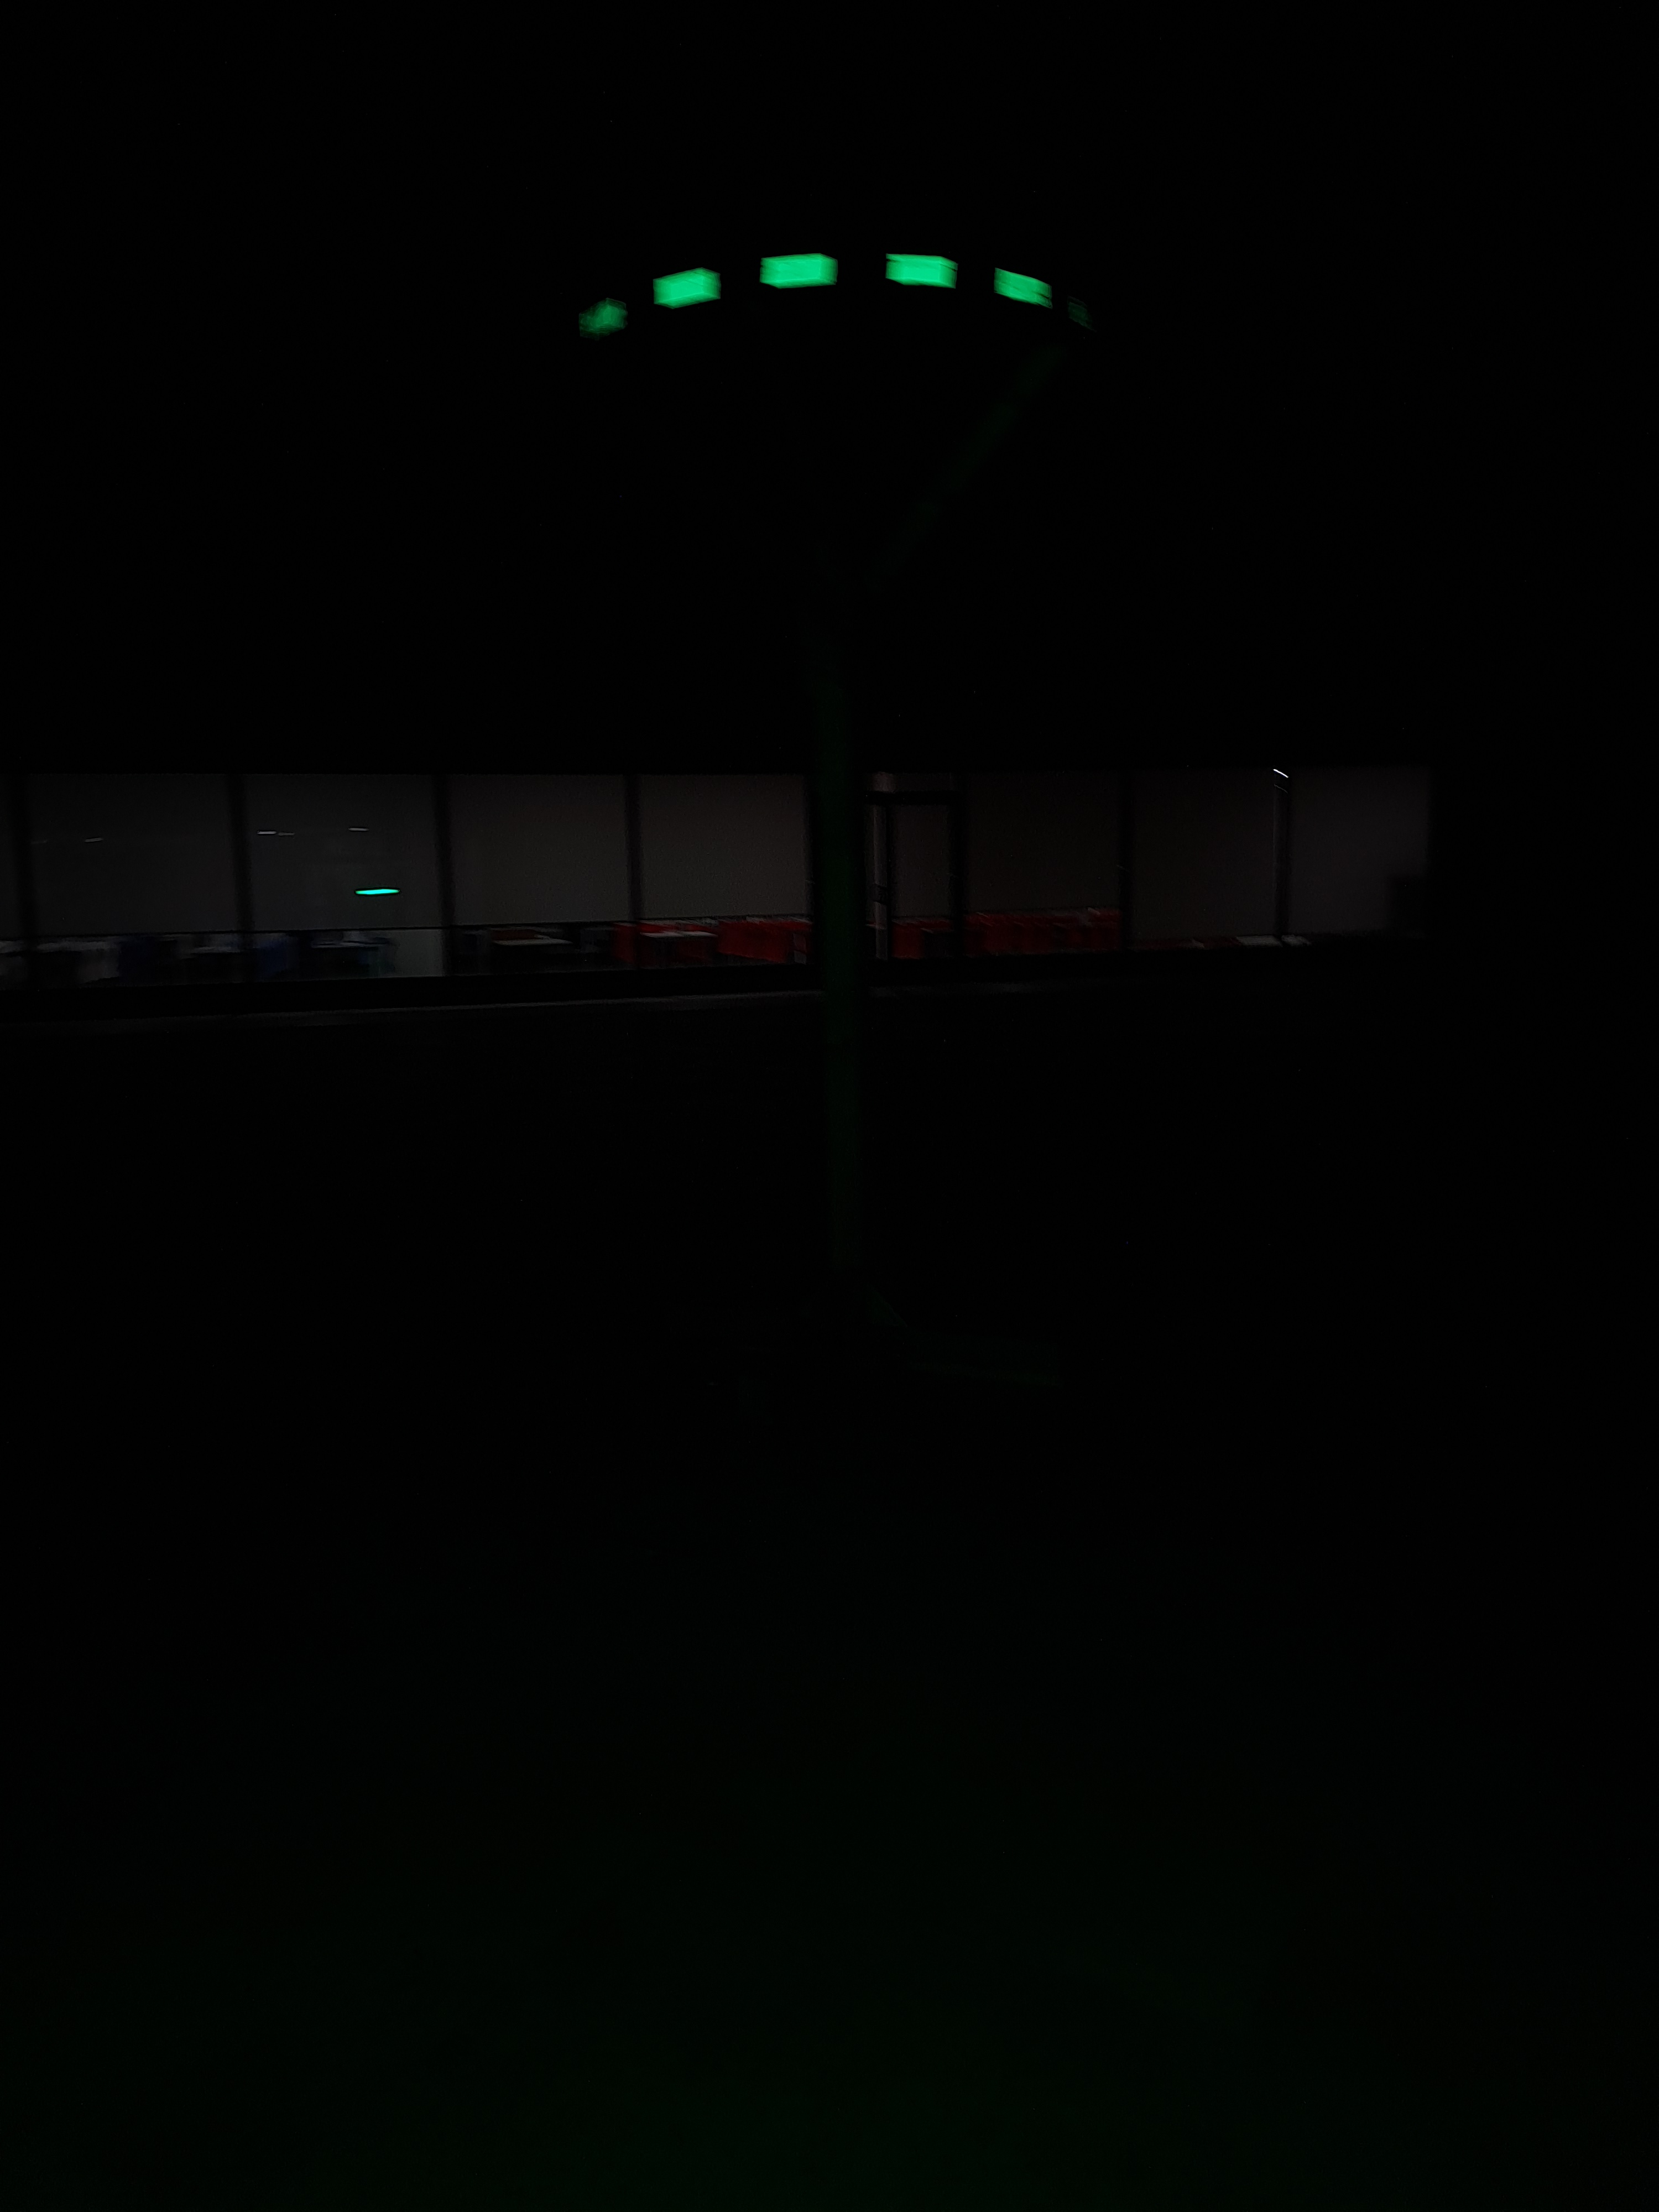hoop: (577, 260, 1061, 320)
